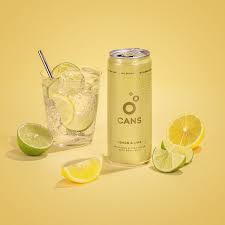can: (106, 49, 153, 165)
